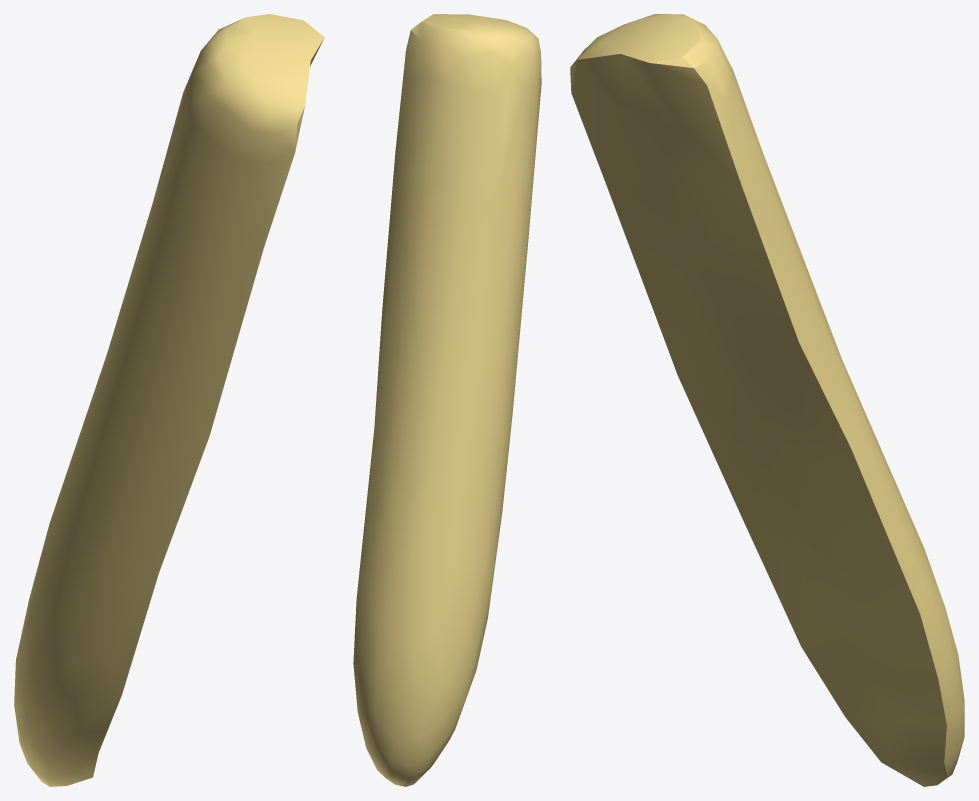
File: fma73734_mm2704.glb
3 views of the same model, side by side, from view 1: azimuth 30°, elevation 25°; view 2: azimuth 150°, elevation 25°; view 3: azimuth 270°, elevation 25° (orthographic). The views are drawn at different scales.
Visible parts, largest first — view 1: FMA73734_MM2704; view 2: FMA73734_MM2704; view 3: FMA73734_MM2704.
Part boxes in pixels (bbox=[...]): FMA73734_MM2704: bbox=[14, 14, 324, 786]; FMA73734_MM2704: bbox=[353, 14, 541, 786]; FMA73734_MM2704: bbox=[570, 14, 964, 786].
Bounding box in the file's own units: 0.00322 × 0.0147 × 0.00669.
